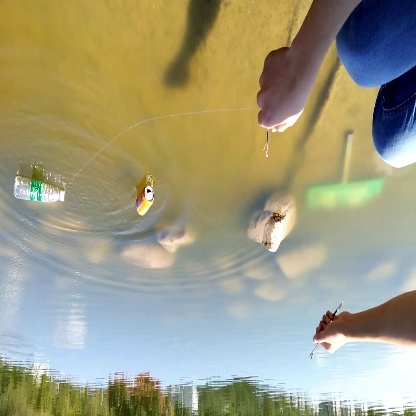bottle: (11, 172, 68, 205), (131, 185, 159, 219)
